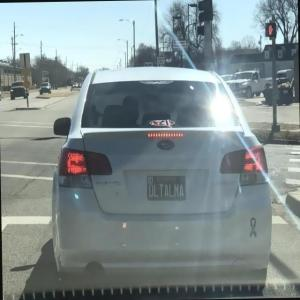Plate: (146, 175, 187, 202)
